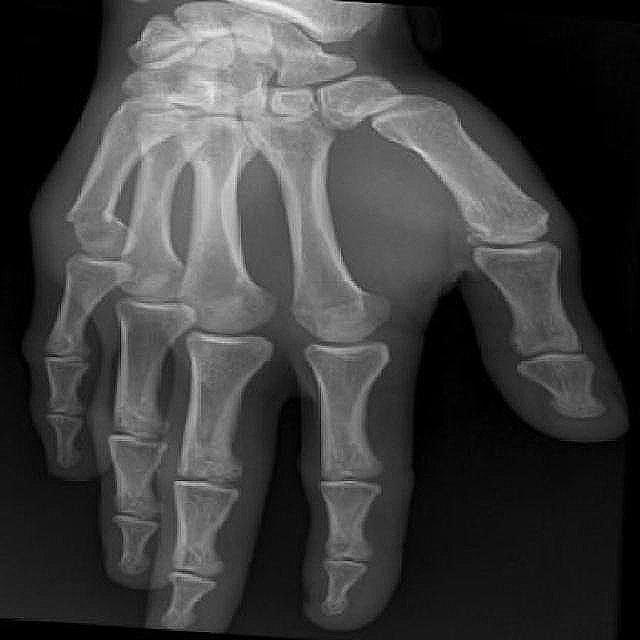bone: (54, 185, 134, 252)
